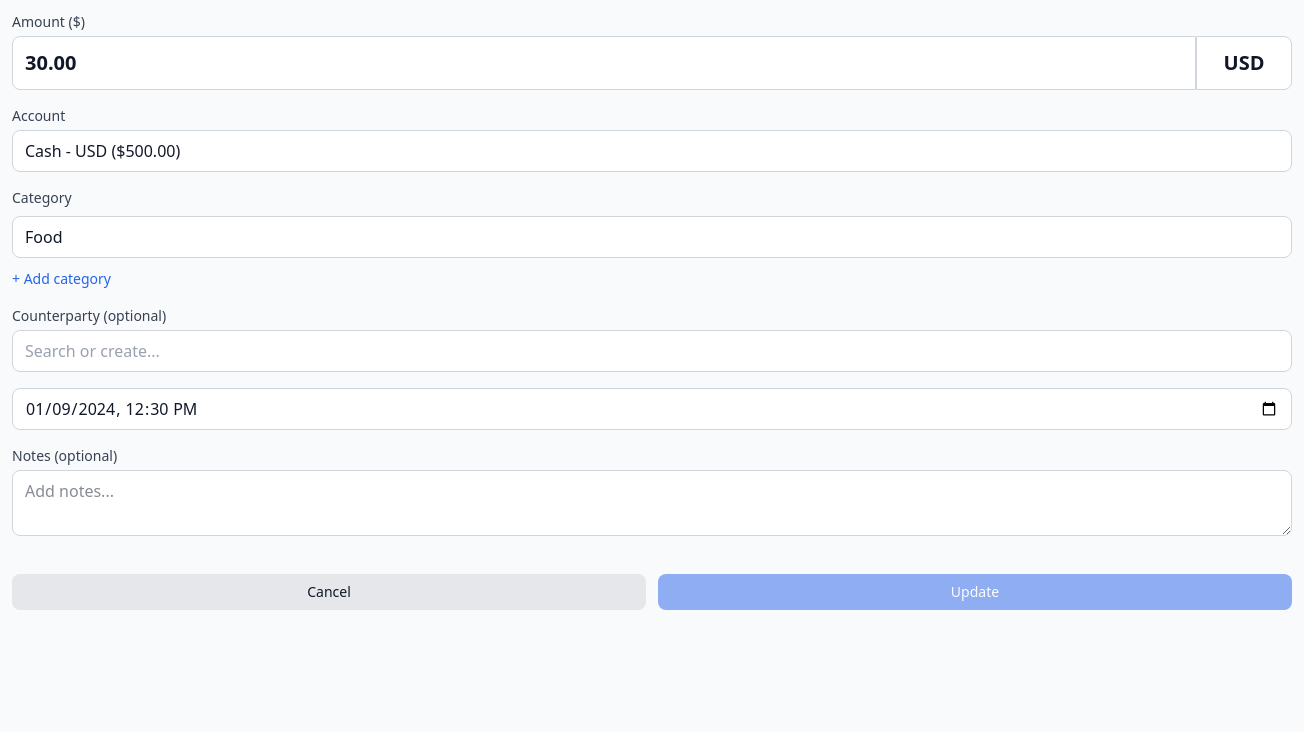
Test: ExpenseTransactionForm › disables Update until a field actually changes, and re-disables on revert
The image size is (1304, 732).
Expected: the button "Update" is disabled, [658, 574, 1292, 610]
Replace the text in the field labelled "Amount ($)" with "35". click: (604, 63)
box: [12, 36, 1196, 90]
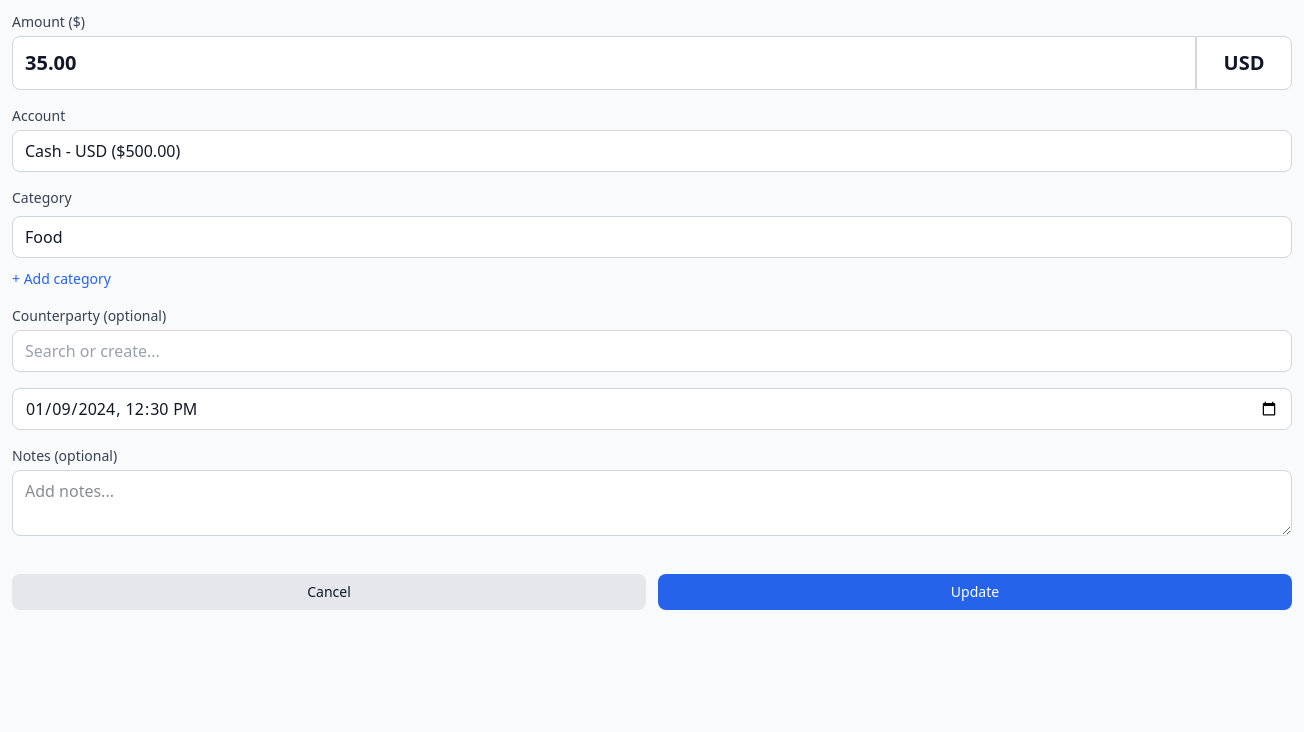
Expected: the button "Update" is enabled, [658, 574, 1292, 610]
Replace the text in the field labelled "Amount ($)" with "30". click: (604, 63)
box: [12, 36, 1196, 90]
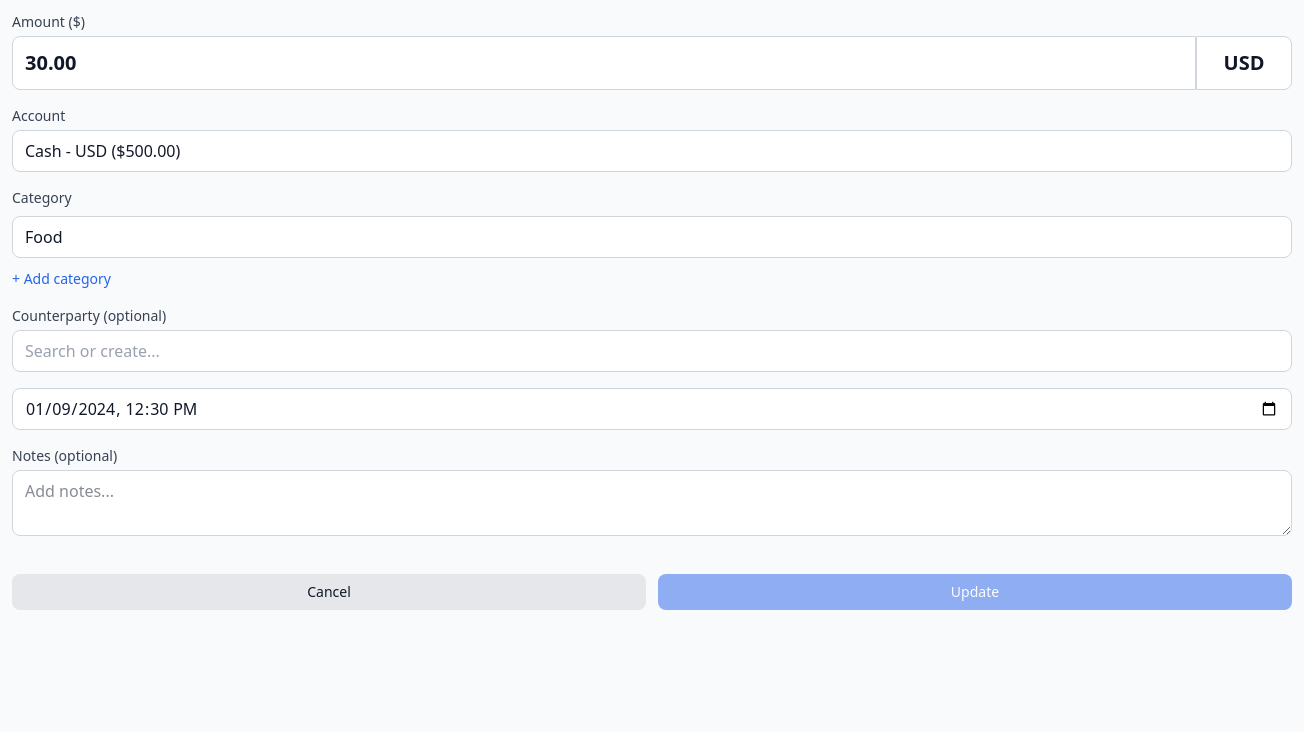
Expected: the button "Update" is disabled, [658, 574, 1292, 610]
